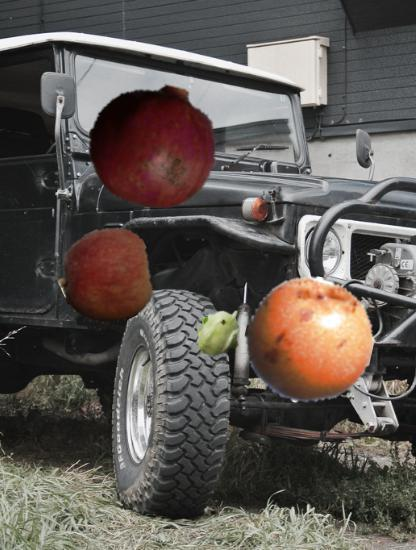Granadilla: (245, 276, 374, 405)
Kohlrabi: (192, 304, 249, 361)
Peach: (60, 229, 156, 325)
Pomegranate: (88, 79, 219, 210)
